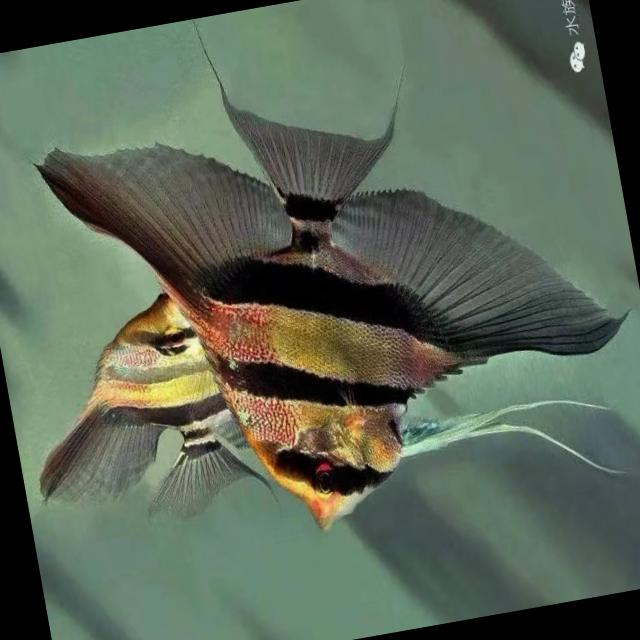AngelFish: (39, 49, 636, 561), (13, 284, 245, 536)
